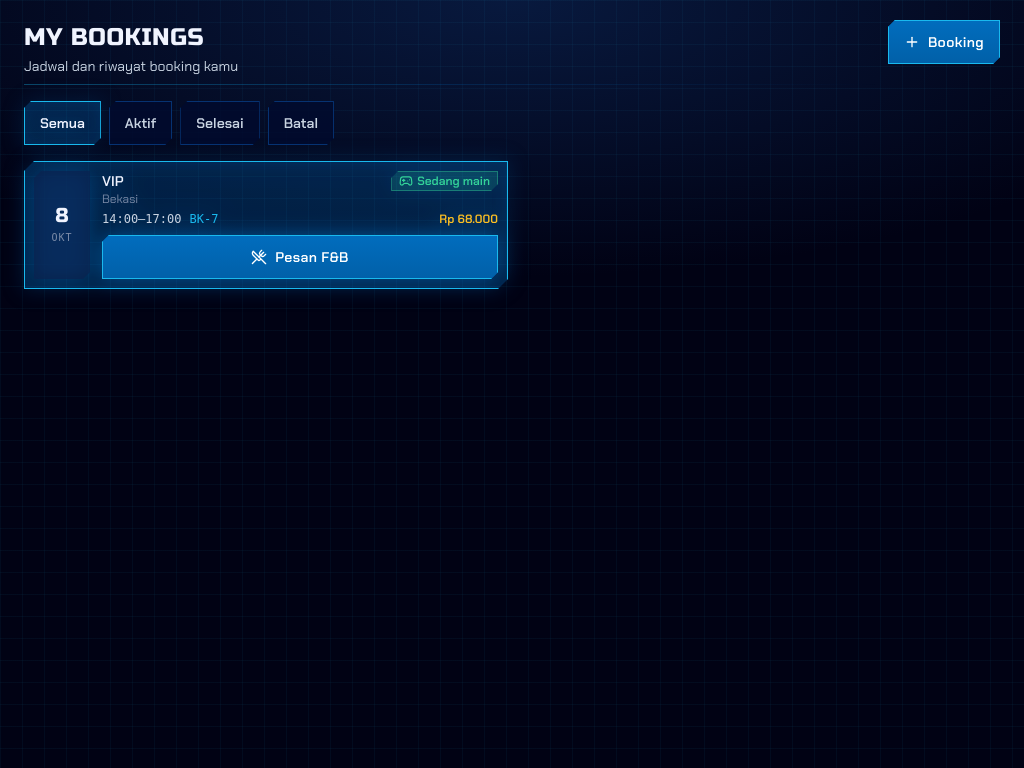
Test: MyBookingsView › a status filter is sent to the server and shows only what the server returns
Click the button "Selesai" at (220, 123), box left=180, top=101, right=260, bottom=145
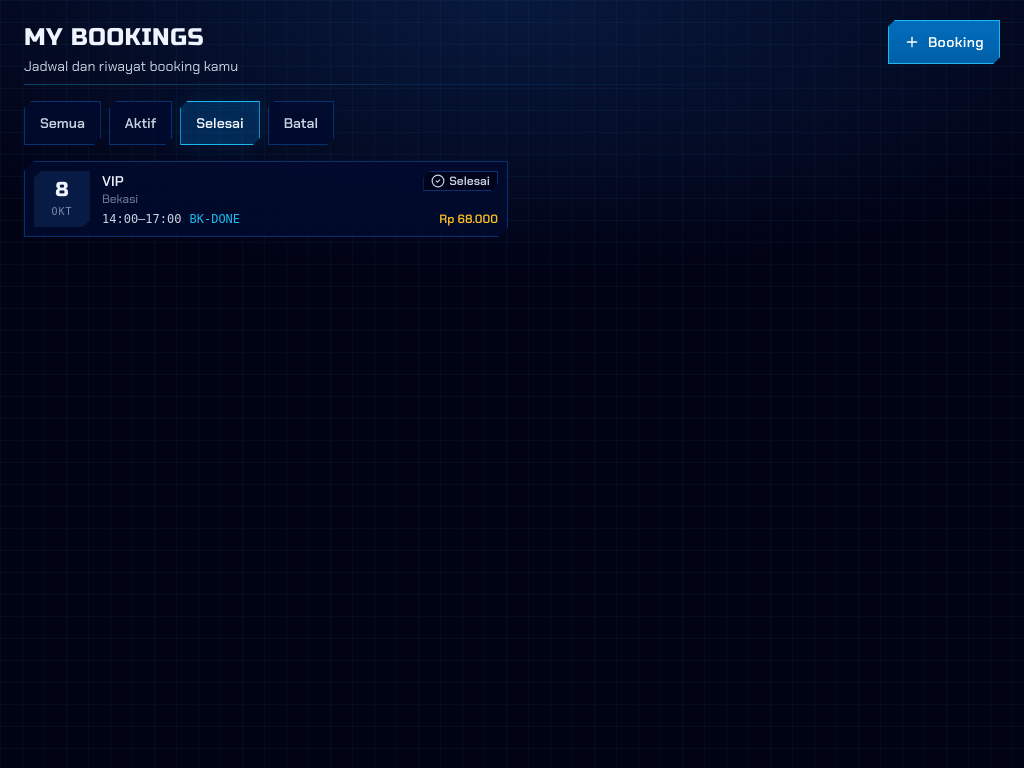
Check: the text "BK-DONE" is shown, box left=190, top=211, right=240, bottom=227
Check: the text "BK-7" is gone
